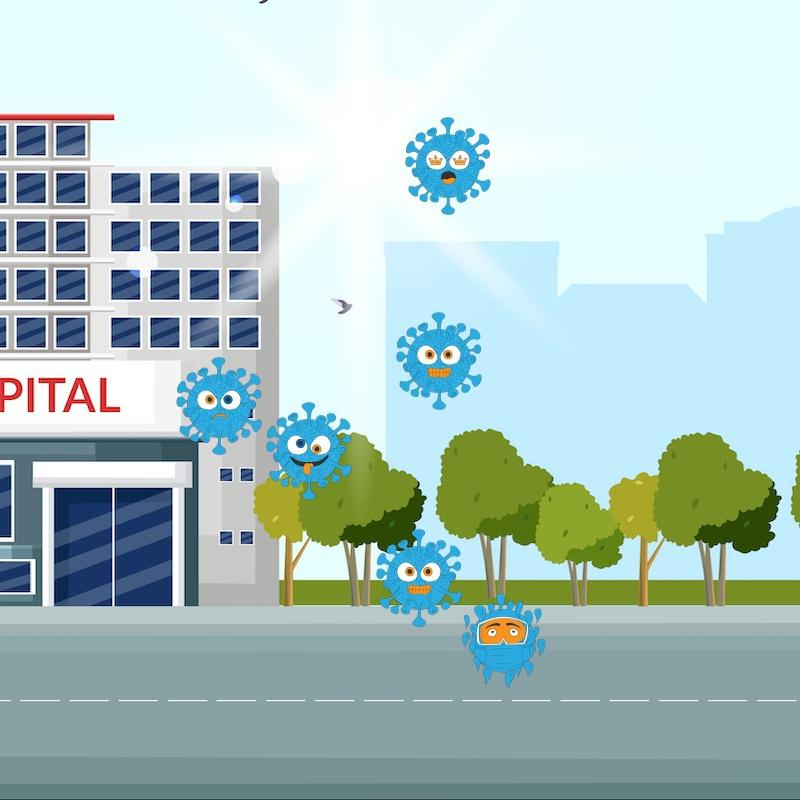corona1: (377, 536, 464, 633), (397, 318, 480, 412)
corona2: (177, 356, 263, 457)
corona3: (274, 403, 359, 496)
corona4: (402, 110, 495, 220)
doctor: (464, 595, 550, 691)
